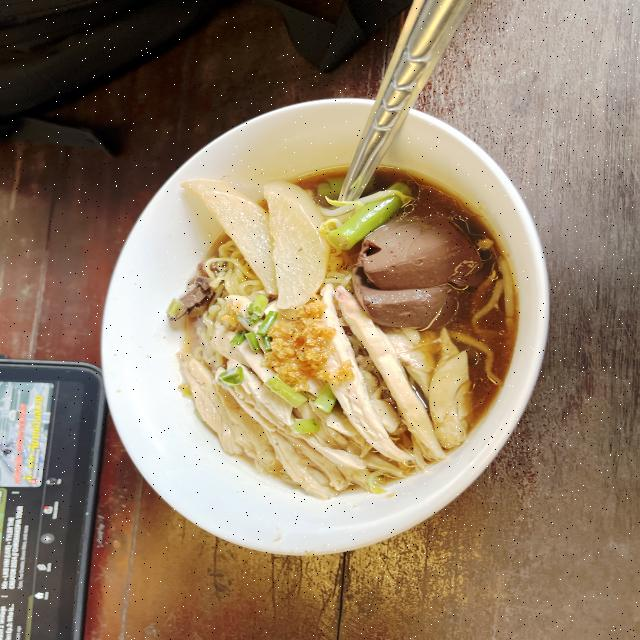boiled_chicken_blood_jelly: (359, 221, 472, 323)
chicken_shredded: (183, 303, 478, 476)
daikon_radish: (176, 178, 332, 309)
noodle: (158, 170, 560, 505)
